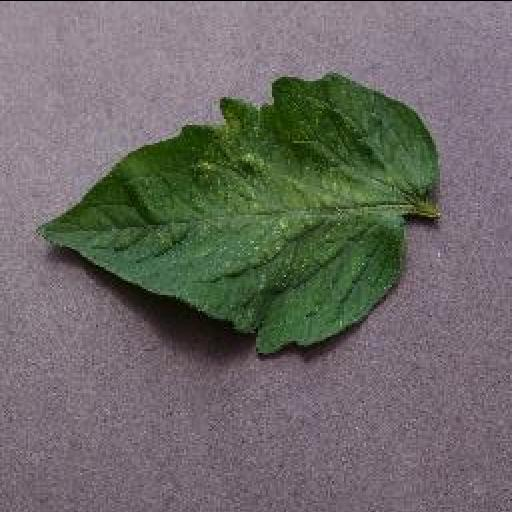disease_tomato: (34, 69, 440, 355)
